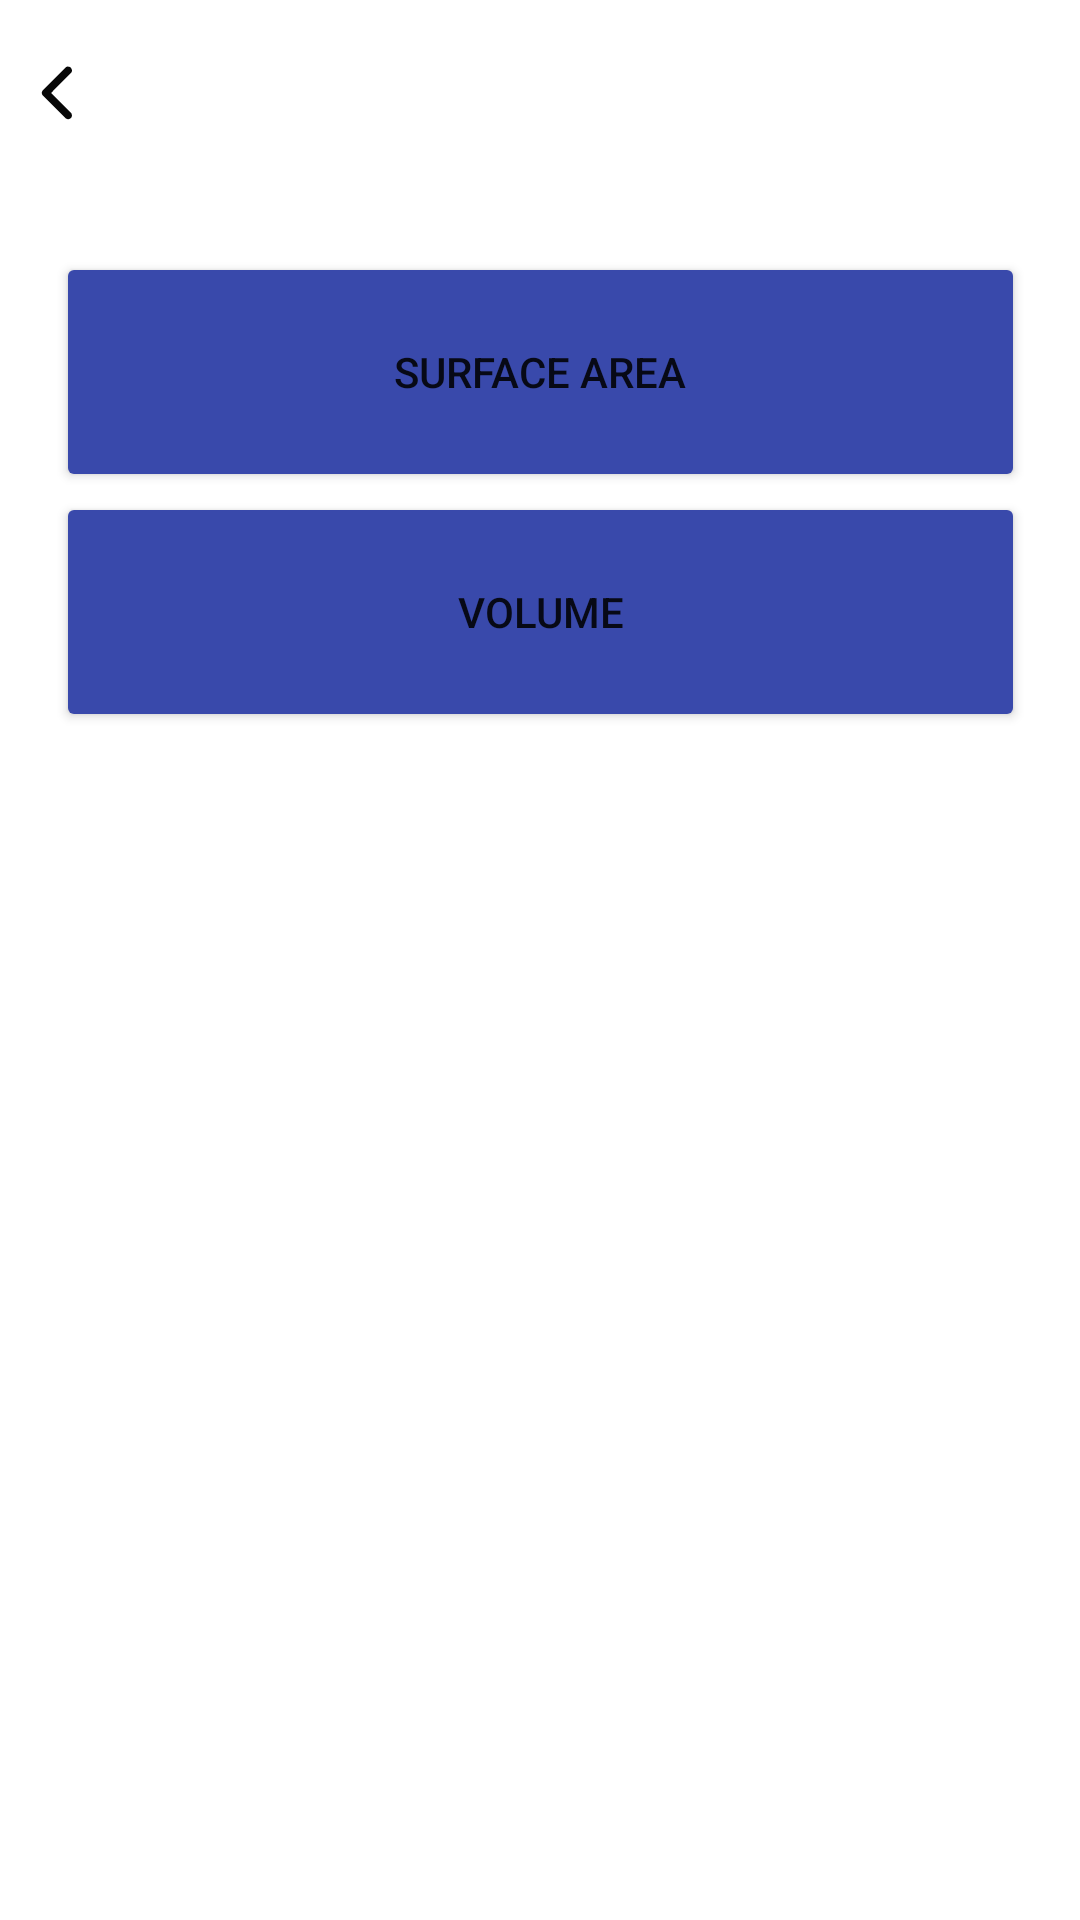

Where icons sit on this 1080px×1920px app screen, as (x1=x1, y1=y1, x2=x2, y2=y2):
back: (x1=41, y1=66, x2=72, y2=120)
